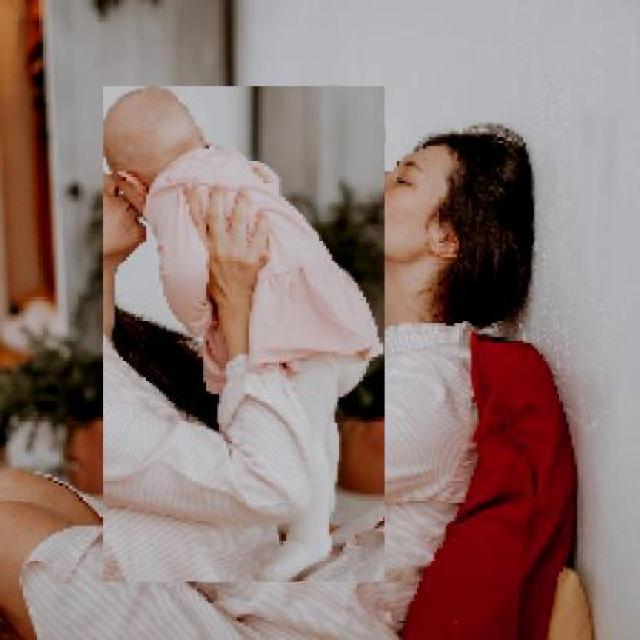child: (102, 86, 384, 583)
